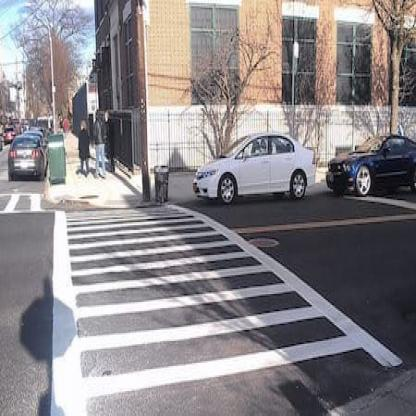Crosswalk: (39, 213, 404, 410)
